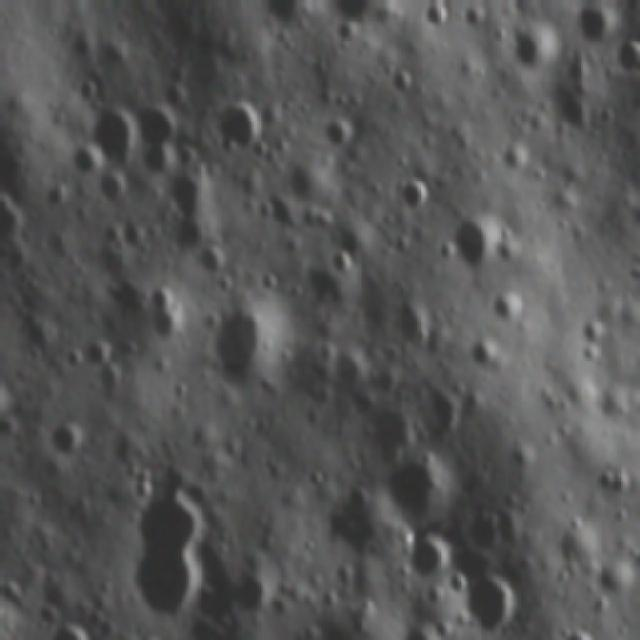crater: (130, 474, 216, 640), (202, 284, 287, 393), (376, 447, 455, 524), (437, 198, 508, 271), (199, 80, 270, 152), (356, 388, 424, 458), (462, 571, 527, 637), (502, 10, 558, 75), (482, 282, 536, 335), (42, 405, 88, 464), (407, 526, 453, 582), (585, 550, 637, 598), (460, 332, 509, 378), (32, 603, 92, 640), (192, 236, 238, 282), (394, 168, 435, 218), (315, 106, 362, 149), (573, 0, 619, 43), (88, 163, 130, 203), (324, 238, 365, 276), (611, 27, 640, 79), (386, 58, 422, 98), (419, 0, 457, 32), (398, 618, 440, 640), (555, 626, 599, 640)
